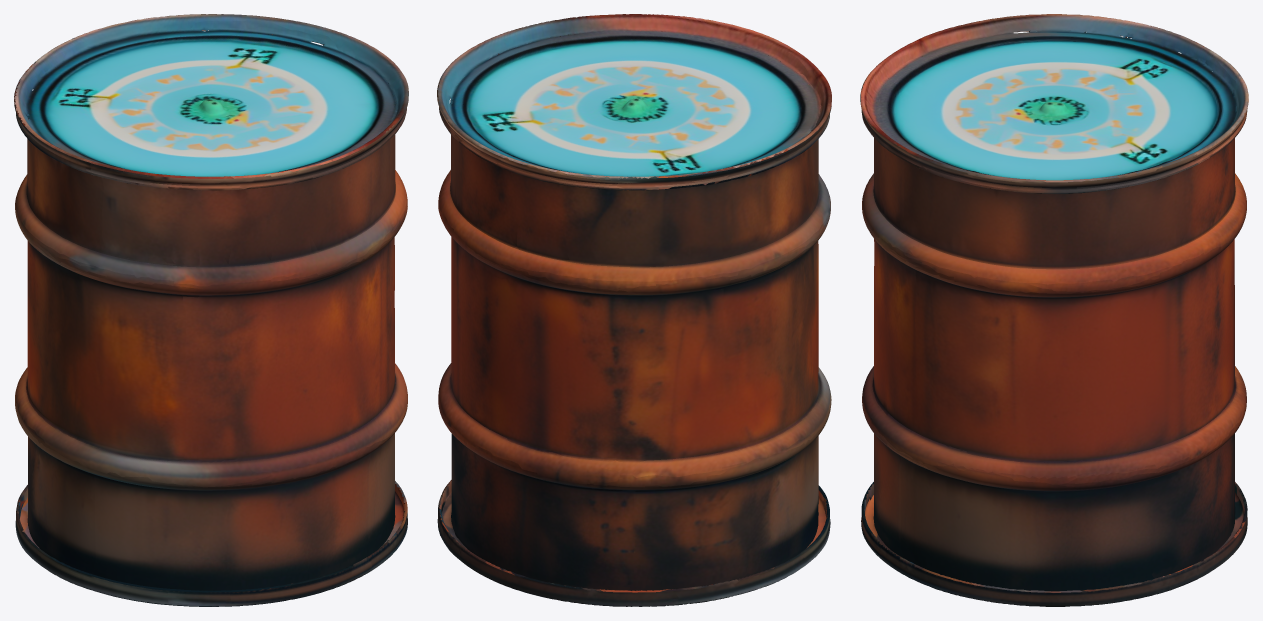
The model's file is barril_oxidado.glb.
The picture shows the model from 3 angles, left to right: view 1: azimuth 30°, elevation 25°; view 2: azimuth 150°, elevation 25°; view 3: azimuth 270°, elevation 25°; orthographic projection.
Parts seen in each view (by area): view 1: tmpt2plnfts.ply; view 2: tmpt2plnfts.ply; view 3: tmpt2plnfts.ply.
Boxes of the visible parts, bbox=[...] form: tmpt2plnfts.ply: bbox=[14, 14, 408, 606]; tmpt2plnfts.ply: bbox=[437, 14, 831, 606]; tmpt2plnfts.ply: bbox=[860, 14, 1248, 606].
Size of the model in its own units: 1.68 by 1.99 by 1.64.
Materials: 1 (1 with a texture image).
